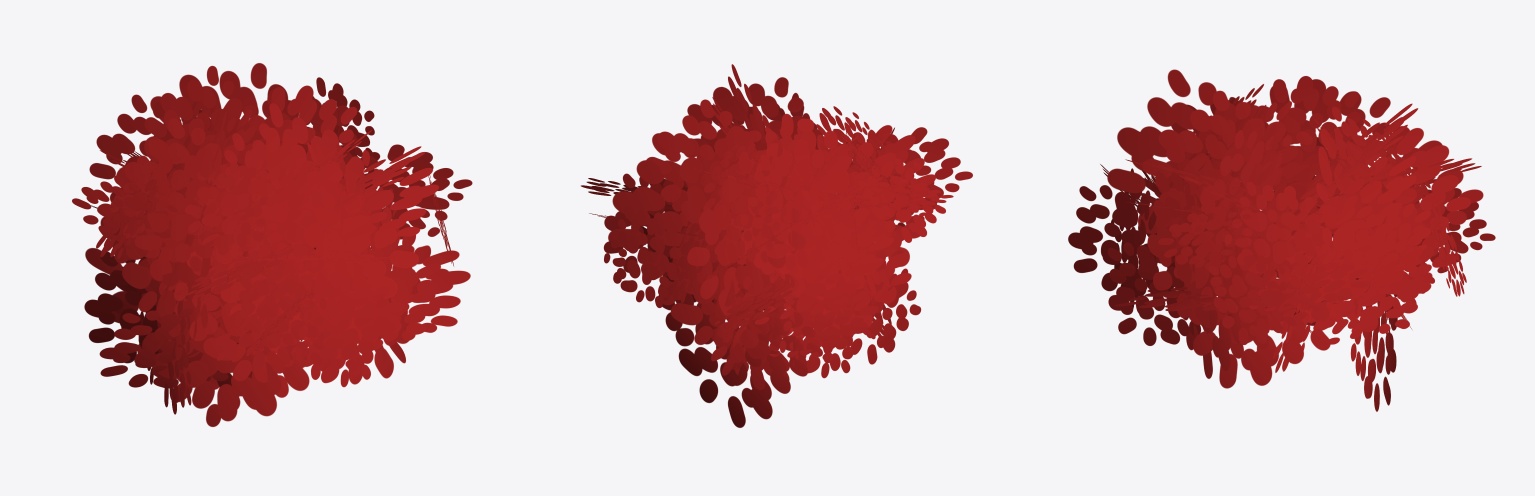
Rendered from bush-far.glb.
The picture shows the model from 3 angles, left to right: view 1: azimuth 30°, elevation 25°; view 2: azimuth 150°, elevation 25°; view 3: azimuth 270°, elevation 25°; orthographic projection. The views are drawn at different scales.
Parts seen in each view (by area): view 1: Bush_Common; view 2: Bush_Common; view 3: Bush_Common.
Boxes of the visible parts, x1,y1,x2,y2 form: Bush_Common: (72,63,472,426); Bush_Common: (581,64,972,427); Bush_Common: (1068,69,1495,411).
Bounding box in the file's own units: 2.39 × 2.23 × 2.34.
1 material, 1 textured.
